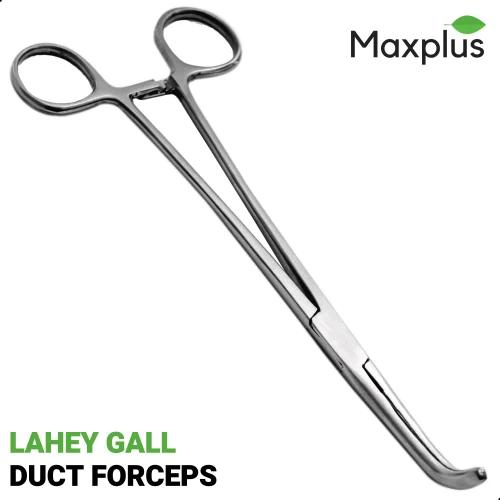Rectangle Cholecystectomy Forceps: (6, 8, 493, 493)
